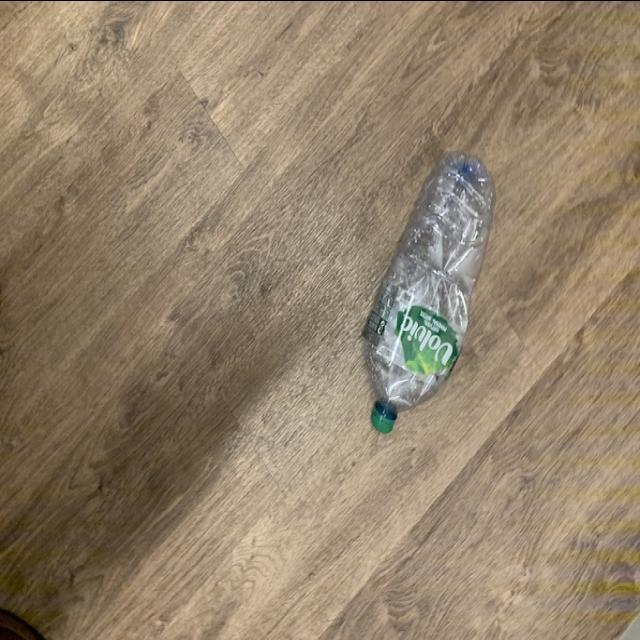litter: (363, 148, 503, 438)
